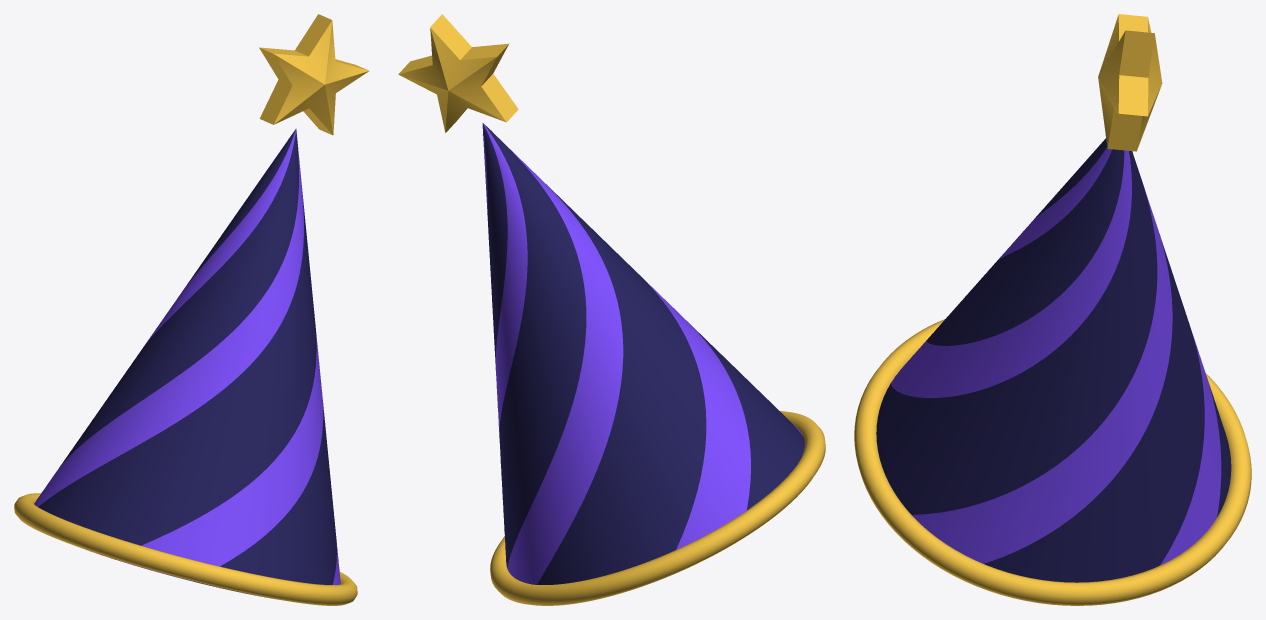
File: party-hat--star.glb
The picture shows the model from 3 angles, left to right: view 1: azimuth 30°, elevation 25°; view 2: azimuth 150°, elevation 25°; view 3: azimuth 270°, elevation 25°; orthographic projection. The views are drawn at different scales.
Visible parts, largest first — view 1: PartyHatCone, Torus, PartyHatStar; view 2: PartyHatCone, Torus, PartyHatStar; view 3: PartyHatCone, Torus, PartyHatStar.
Part boxes in pixels (bbox=[...]): PartyHatCone: bbox=[34, 128, 340, 598]; Torus: bbox=[14, 493, 357, 605]; PartyHatStar: bbox=[259, 14, 369, 135]; PartyHatCone: bbox=[482, 123, 804, 584]; Torus: bbox=[490, 411, 825, 605]; PartyHatStar: bbox=[398, 14, 518, 132]; PartyHatCone: bbox=[876, 138, 1231, 582]; Torus: bbox=[854, 319, 1251, 605]; PartyHatStar: bbox=[1098, 14, 1162, 151].
Size of the model in its own units: 0.5513 by 0.7871 by 0.4714.
